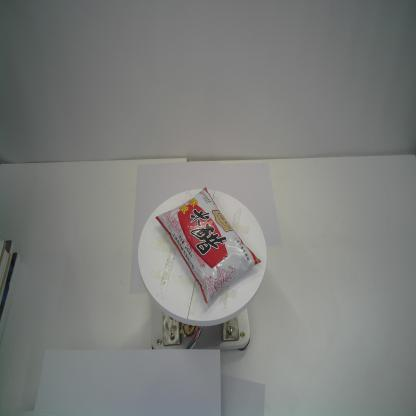Seasoner: (155, 181, 262, 309)
